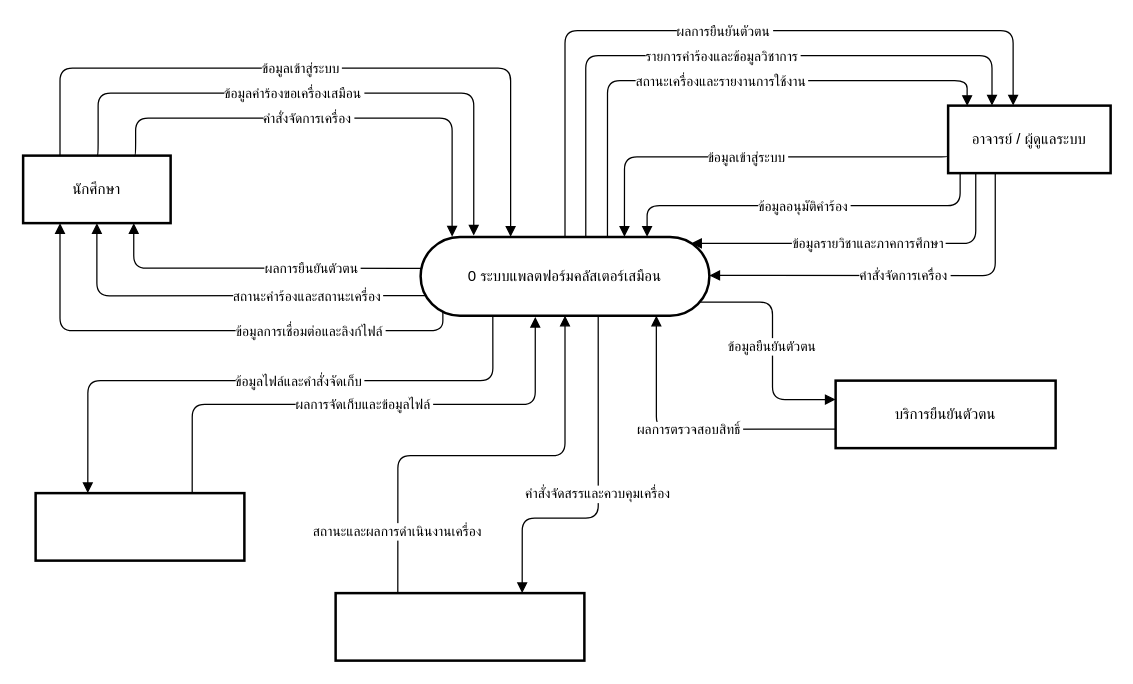
Image size: 1133x684. Some labels were removed from this diagram. The shapes that lost their labels are listed below. From the top down, each one's box as (x1, y1, x2, y2) in pixels, then its label:
(34, 491, 245, 561): Object Storage
(334, 591, 585, 661): Proxmox VE Cluster
